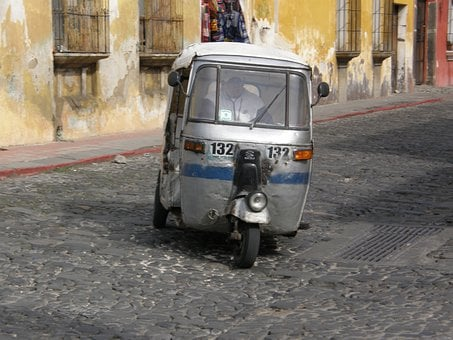threewheel: (153, 42, 329, 270)
